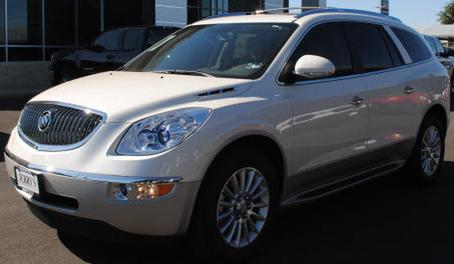front_view: (2, 92, 216, 238)
headlight: (107, 104, 220, 162)
side_glass: (279, 19, 440, 89)
